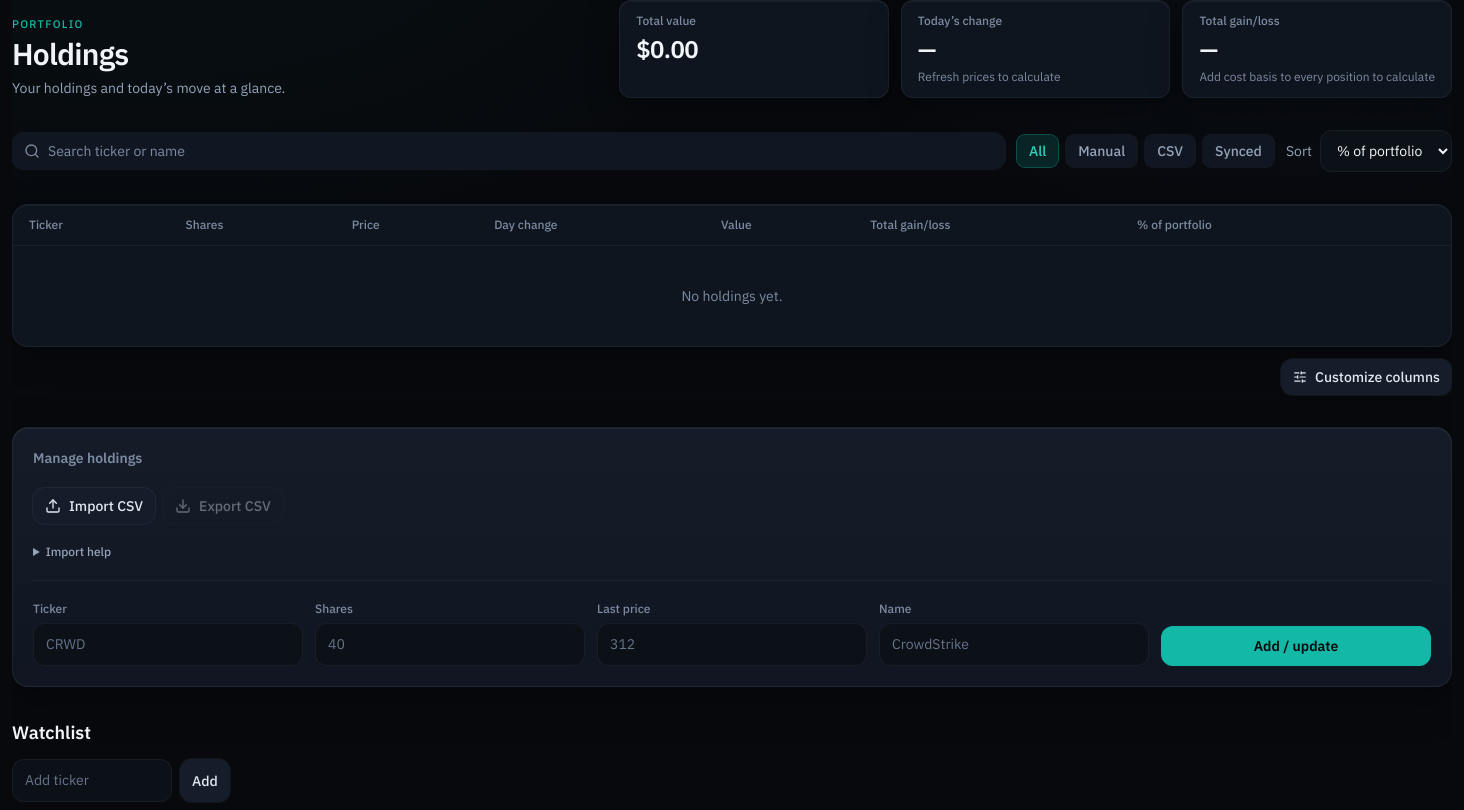
Test: PortfolioPage action feedback › toasts after adding a holding
In the field labelled "Ticker": (168,644) [33,623,303,666], type "nvda"
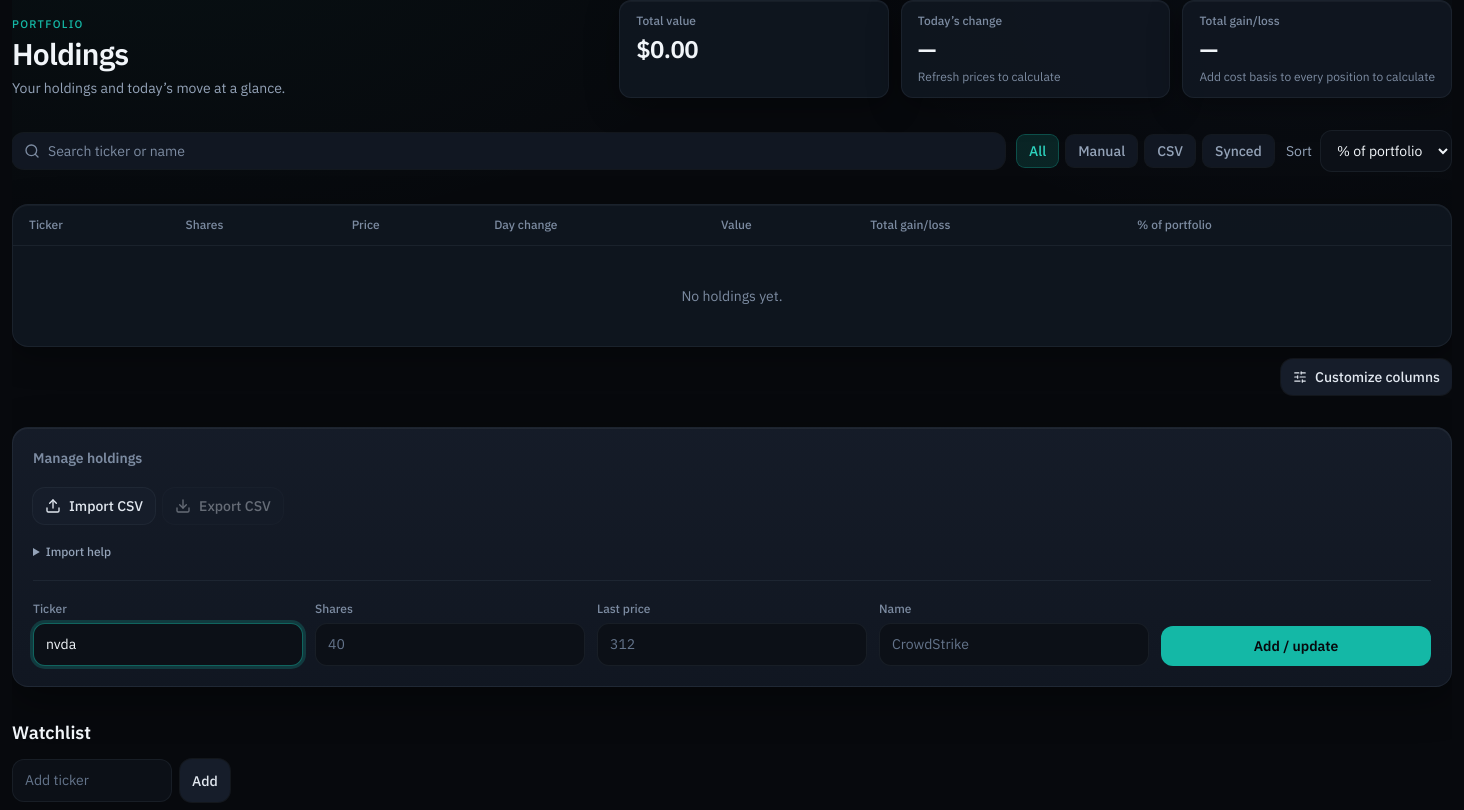
In the number field labelled "Shares": (450,644) [315,623,585,666], type "5"
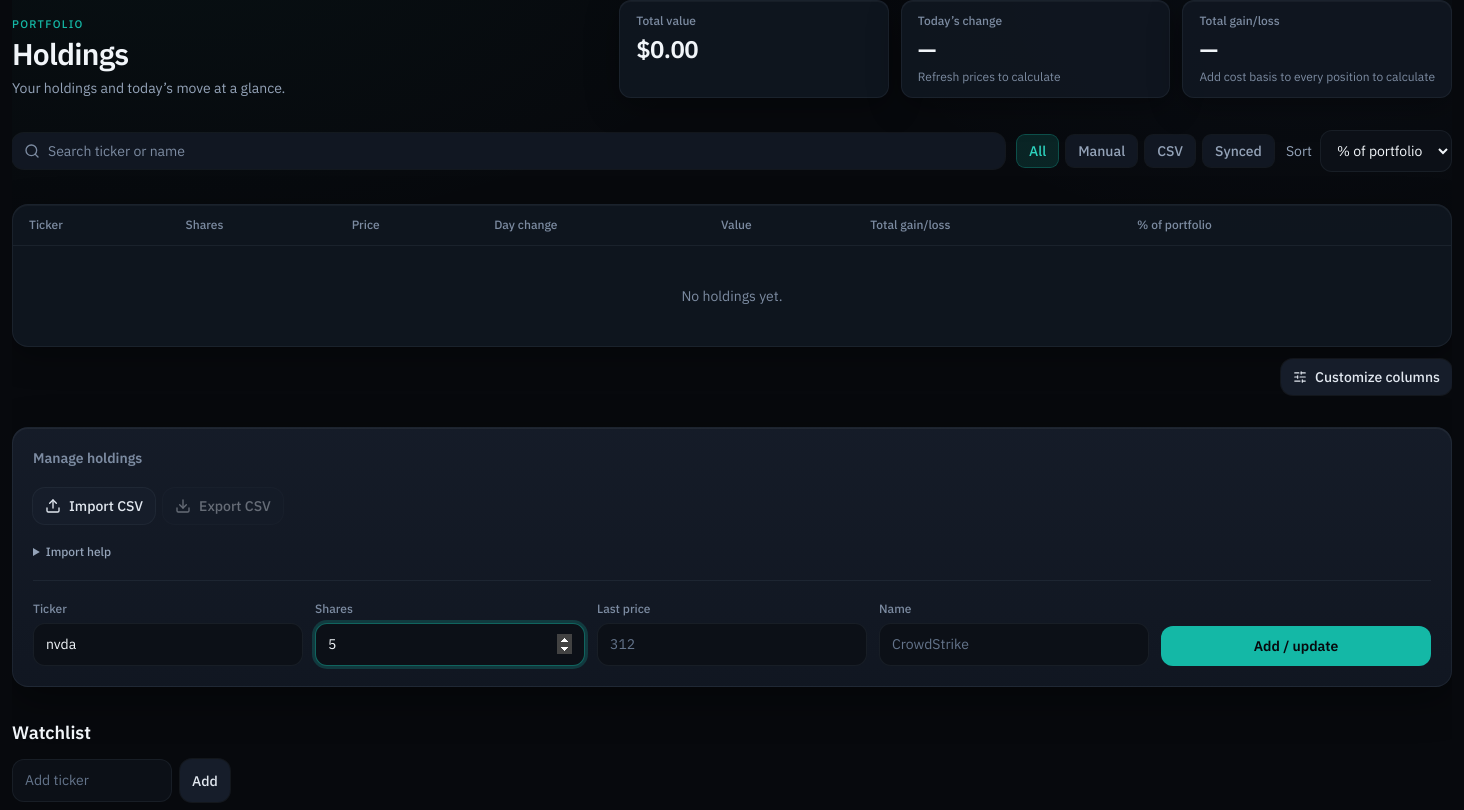
Click the button "Add / update": (1296,646) [1161,626,1431,666]
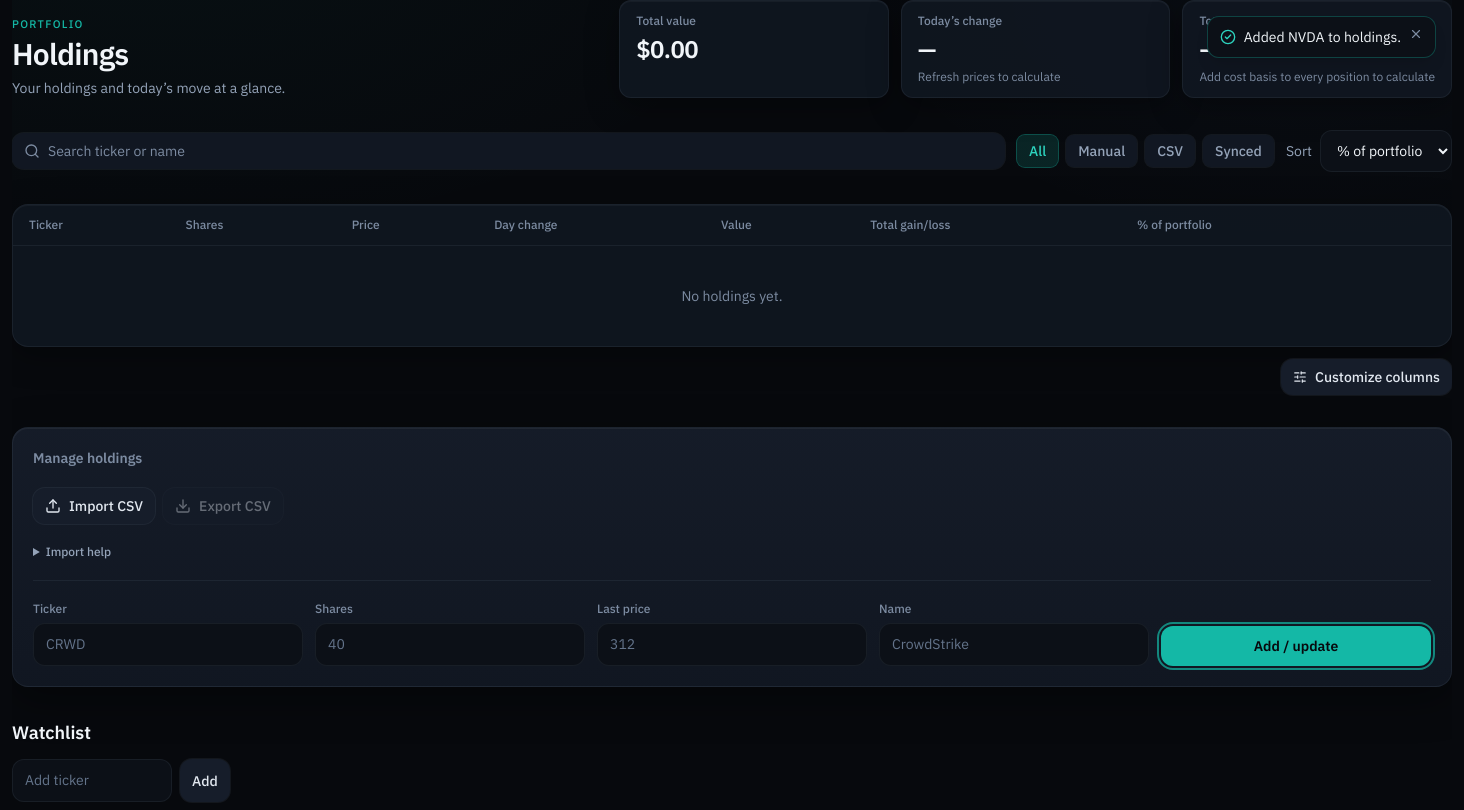
Check: the text "Added NVDA to holdings." is shown, box [1244,27,1401,47]
